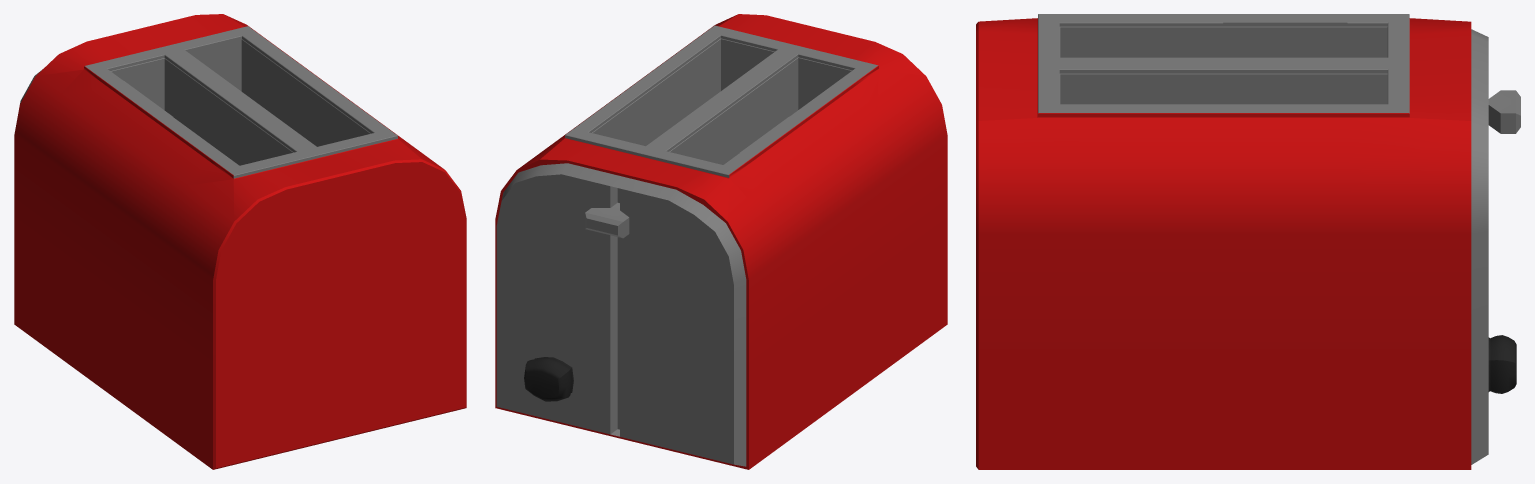
Rendered from toaster_text (1).fbx.
3 renders of one model, left to right at view 1: azimuth 30°, elevation 25°; view 2: azimuth 150°, elevation 25°; view 3: azimuth 270°, elevation 25°, orthographic. The views are drawn at different scales.
Visible parts, largest first — view 1: toaster; view 2: toaster; view 3: toaster.
Boxes of the visible parts, left/top/right/bottom form: toaster: left=14, top=14, right=466, bottom=469; toaster: left=495, top=14, right=947, bottom=469; toaster: left=976, top=14, right=1520, bottom=469.
Bounding box in the file's own units: 26.19 × 26.25 × 39.29.
1 material, 1 textured.
